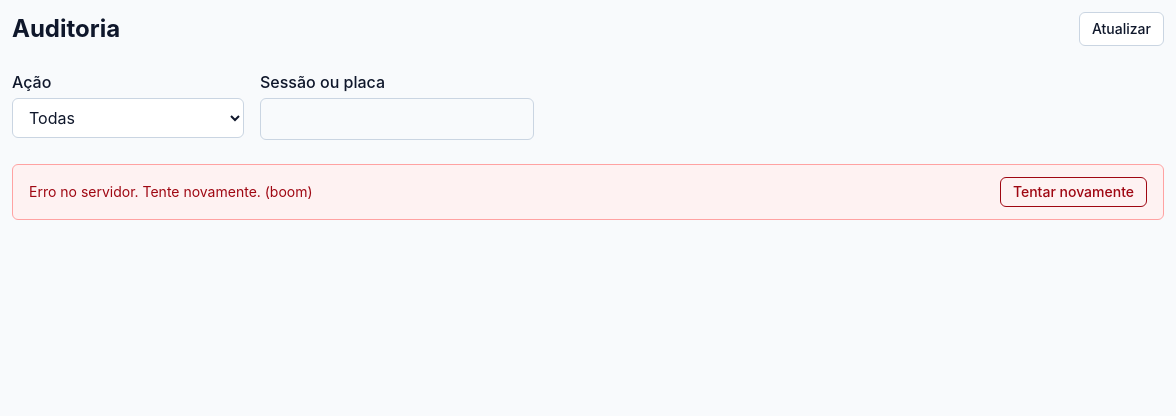
Test case: AuditPage › erro exibe Alert e Tentar novamente recarrega
This screenshot has width=1176, height=416.
Check: the message shows "Erro no servidor. Tente novamente.", box [29,183,313,200]
Click the button "Tentar novamente" at [1073, 192], box [1000,177,1147,207]
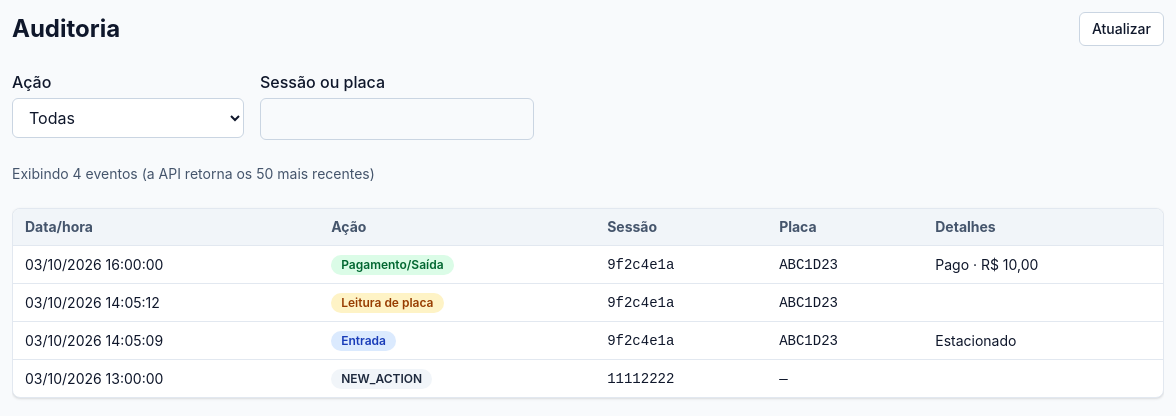
Check: the table is shown, box [13,209,1163,397]
